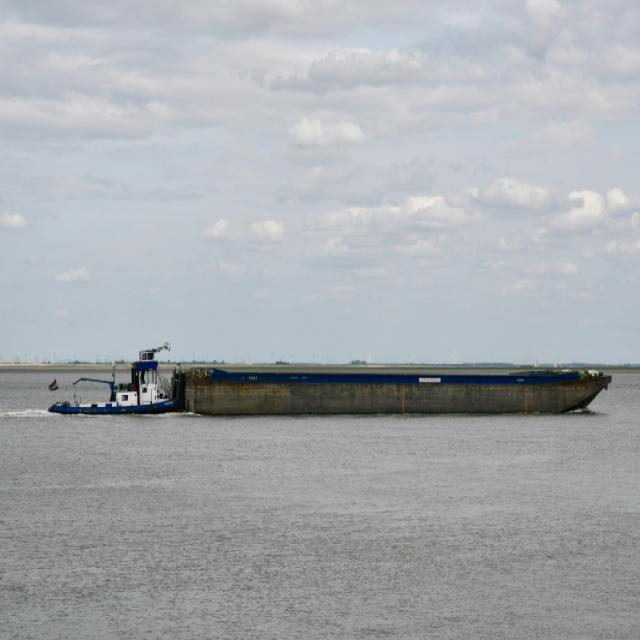tugboat: (48, 340, 191, 432)
